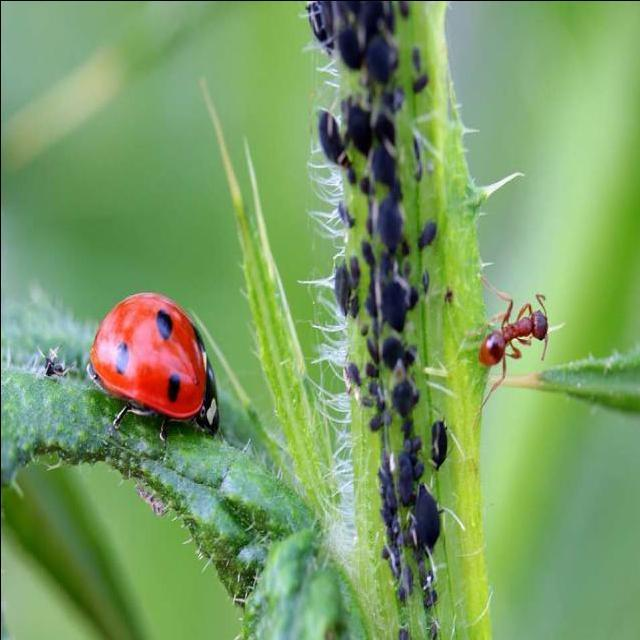aphid: (404, 462, 442, 573), (308, 105, 356, 180)
